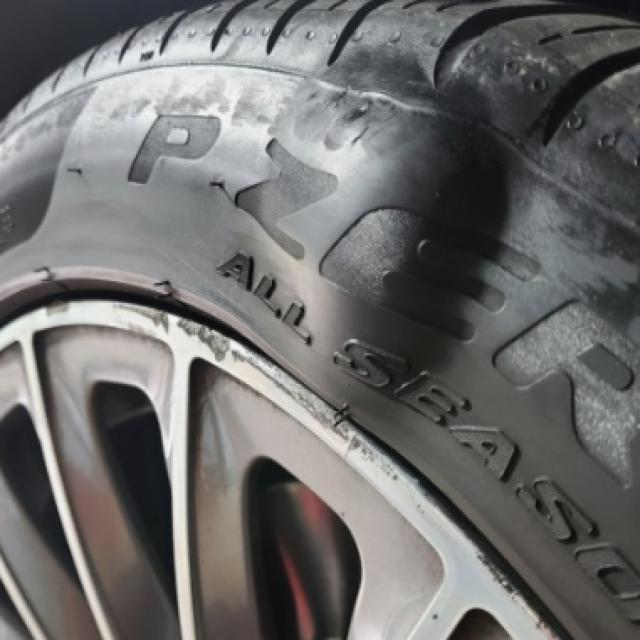Bulge: (245, 34, 522, 434)
